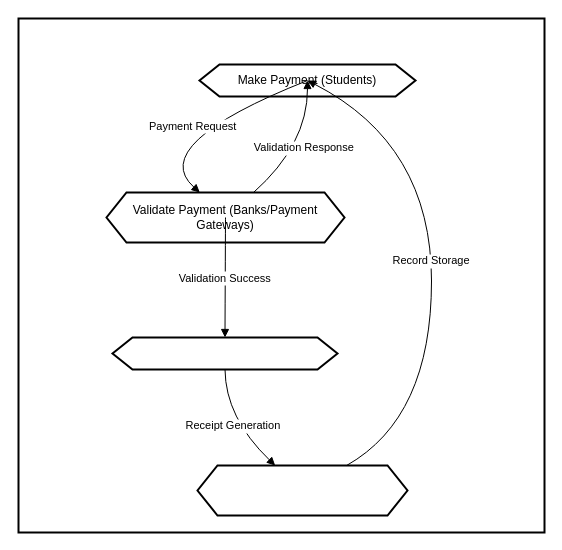
The diagram is 562 pixels wide and 550 high, and some of its shapes have lost their labels. The shapes that lost their labels are listed below. From the top down, each one's centre as x and y in pixels, then its label:
pixel 224 353: Generate Receipt (System)
pixel 302 490: Store Payment Records (System)
